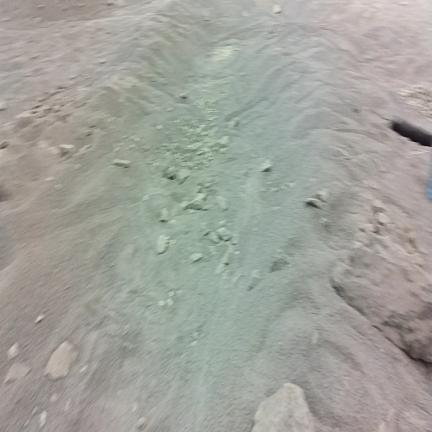Rock: (331, 226, 431, 362), (253, 384, 314, 431), (45, 341, 77, 379), (4, 363, 30, 383), (377, 409, 397, 431), (15, 111, 35, 129), (186, 194, 207, 210), (270, 256, 288, 272), (248, 270, 260, 290), (7, 342, 20, 360), (157, 235, 169, 254), (217, 227, 232, 241), (177, 169, 190, 184), (306, 198, 322, 209), (58, 145, 74, 156), (217, 196, 229, 210), (316, 189, 328, 202), (163, 167, 176, 179), (112, 159, 130, 167), (260, 160, 272, 172), (159, 208, 169, 222), (39, 411, 47, 428), (219, 136, 230, 148), (209, 232, 220, 244), (137, 417, 147, 430), (190, 253, 203, 262), (35, 314, 45, 323), (230, 118, 239, 127), (273, 5, 282, 13), (0, 141, 9, 149), (0, 101, 7, 111), (231, 234, 238, 244), (180, 92, 188, 100), (166, 298, 173, 306), (98, 59, 107, 64), (156, 125, 163, 129)
